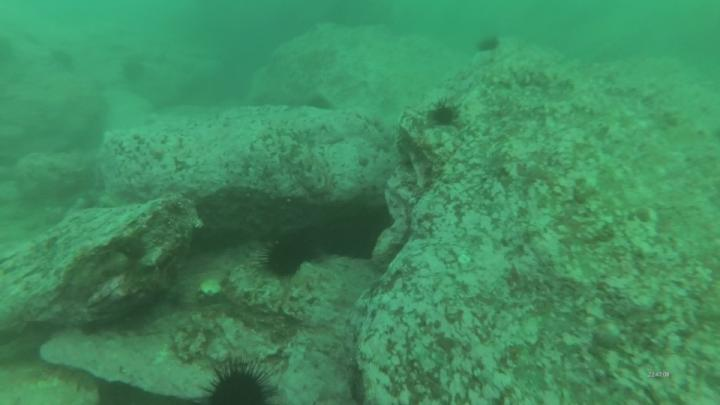echinus: (193, 359, 281, 405), (260, 230, 322, 282), (338, 213, 387, 264), (427, 100, 460, 132), (118, 55, 150, 86), (46, 46, 78, 70), (302, 92, 336, 111), (476, 35, 505, 56)
